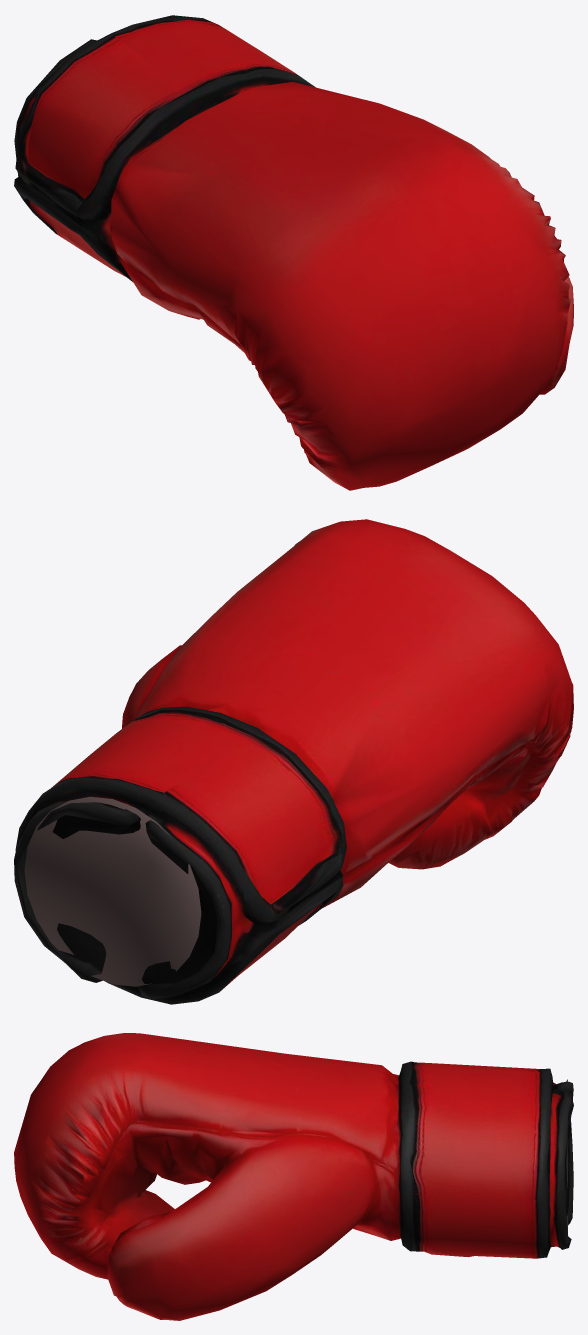
File: boxing-glove-left.glb
3 views of the same model, one above another, from view 1: azimuth 30°, elevation 25°; view 2: azimuth 150°, elevation 25°; view 3: azimuth 270°, elevation 25° (orthographic). The views are drawn at different scales.
Visible parts, largest first — view 1: scrap_glove_left; view 2: scrap_glove_left; view 3: scrap_glove_left.
Boxes of the visible parts, x1,y1,x2,y2 form: scrap_glove_left: (14, 15, 573, 490); scrap_glove_left: (14, 519, 573, 1004); scrap_glove_left: (14, 1033, 573, 1320).
Size of the model in its own units: 0.2177 by 0.1819 by 0.3723.
Materials: 2 (1 with a texture image).
